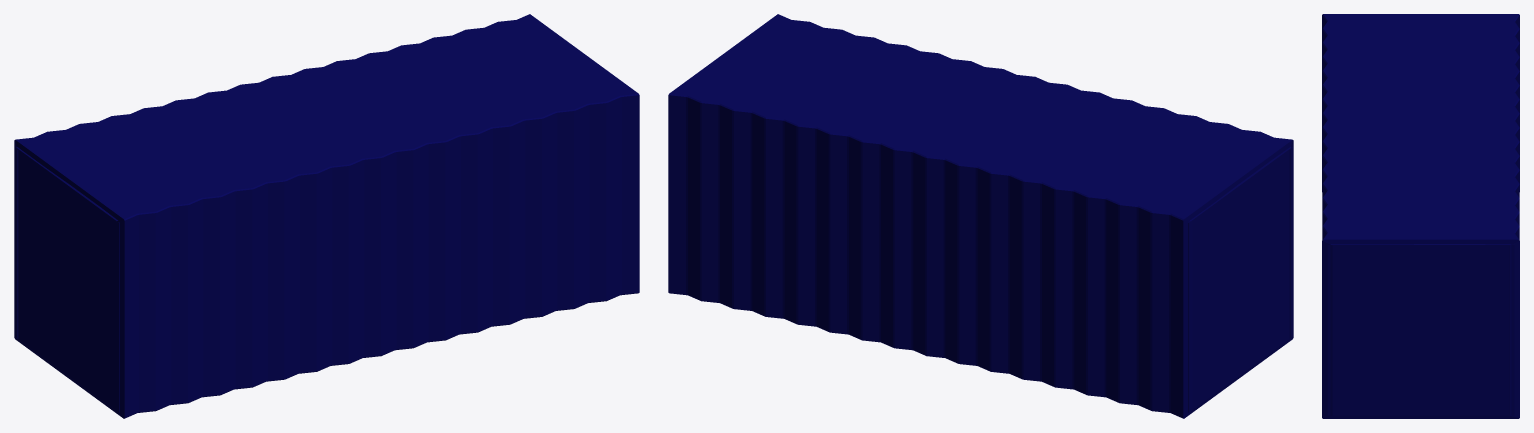
File: shipment_closed_blue.glb
The picture shows the model from 3 angles, left to right: view 1: azimuth 30°, elevation 25°; view 2: azimuth 150°, elevation 25°; view 3: azimuth 270°, elevation 25°; orthographic projection. The views are drawn at different scales.
Visible parts, largest first — view 1: shipment_closed_blue; view 2: shipment_closed_blue; view 3: shipment_closed_blue.
Boxes of the visible parts, x1=… form: shipment_closed_blue: x1=14, y1=14, x2=639, y2=418; shipment_closed_blue: x1=668, y1=14, x2=1293, y2=418; shipment_closed_blue: x1=1322, y1=14, x2=1519, y2=418.
Size of the model in its own units: 5.46 by 2 by 2.
